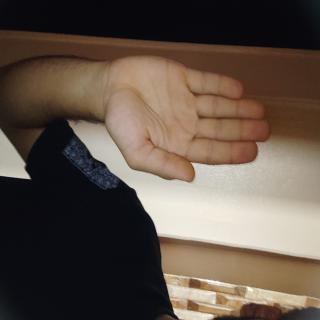SEEN: (35, 61, 140, 304)
